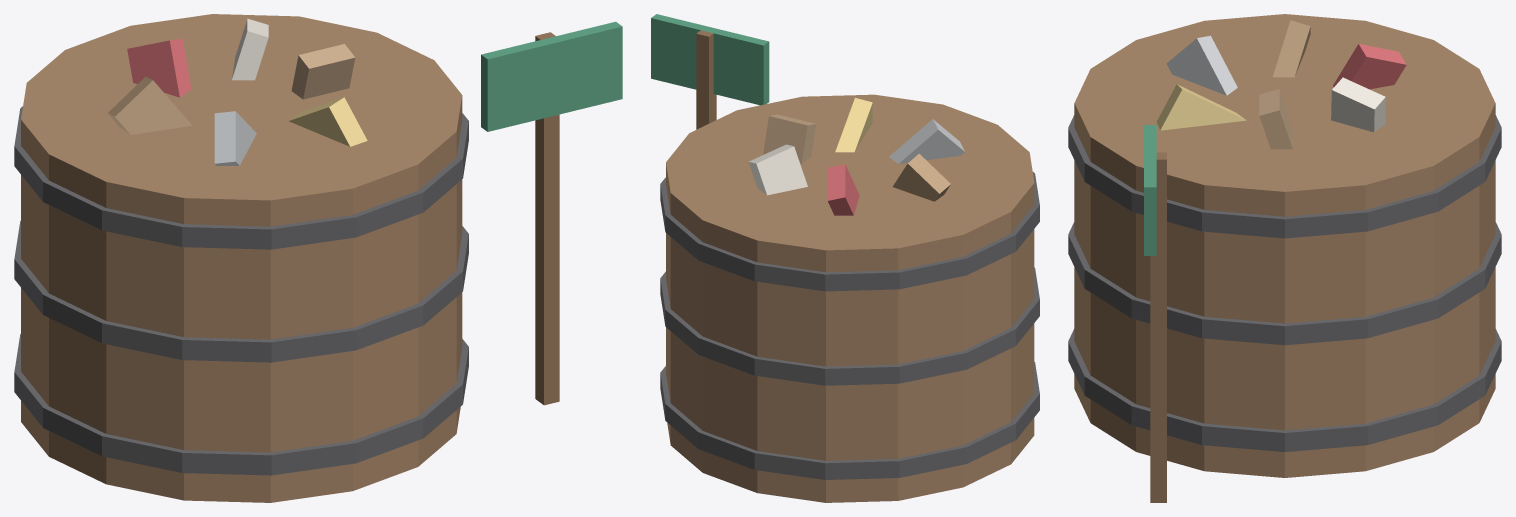
Rendered from station_recycle.glb.
3 renders of one model, left to right at view 1: azimuth 30°, elevation 25°; view 2: azimuth 150°, elevation 25°; view 3: azimuth 270°, elevation 25°, orthographic. The views are drawn at different scales.
Visible parts, largest first — view 1: Barrel, Hoop.0, Sign, Sign post, Scrap.3, Scrap.2, Scrap.0, Scrap.5, Scrap.4, Scrap.1; view 2: Barrel, Hoop.0, Sign, Scrap.1, Scrap.4, Sign post, Scrap.0, Scrap.3, Scrap.2, Scrap.5; view 3: Barrel, Hoop.0, Sign post, Scrap.4, Scrap.1, Scrap.5, Scrap.2, Sign, Scrap.0, Scrap.3.
Boxes of the visible parts, box(x1,y1,x2,y2) form: Barrel: box(21, 14, 462, 502); Hoop.0: box(14, 106, 468, 475); Sign: box(481, 21, 622, 131); Sign post: box(535, 32, 559, 405); Scrap.3: box(107, 76, 191, 134); Scrap.2: box(127, 38, 191, 97); Scrap.0: box(291, 44, 355, 99); Scrap.5: box(288, 97, 367, 146); Scrap.4: box(214, 111, 256, 165); Scrap.1: box(232, 18, 268, 80); Barrel: box(666, 94, 1034, 502); Hoop.0: box(660, 172, 1039, 479); Sign: box(651, 14, 769, 105); Scrap.1: box(748, 144, 807, 195); Scrap.4: box(889, 119, 964, 163); Sign post: box(696, 30, 716, 129); Scrap.0: box(763, 114, 816, 163); Scrap.3: box(892, 153, 950, 201); Scrap.2: box(827, 164, 859, 215); Scrap.5: box(835, 98, 872, 152); Barrel: box(1074, 14, 1495, 477); Hoop.0: box(1068, 115, 1501, 451); Sign post: box(1150, 152, 1166, 502); Scrap.4: box(1166, 35, 1237, 95); Scrap.1: box(1331, 77, 1385, 132); Scrap.5: box(1156, 84, 1246, 130); Scrap.2: box(1333, 43, 1406, 89); Sign: box(1144, 125, 1156, 255); Scrap.0: box(1259, 89, 1292, 149); Scrap.3: box(1272, 20, 1310, 77).
Bounding box in the file's own units: 1.31 × 0.9 × 1.03.
